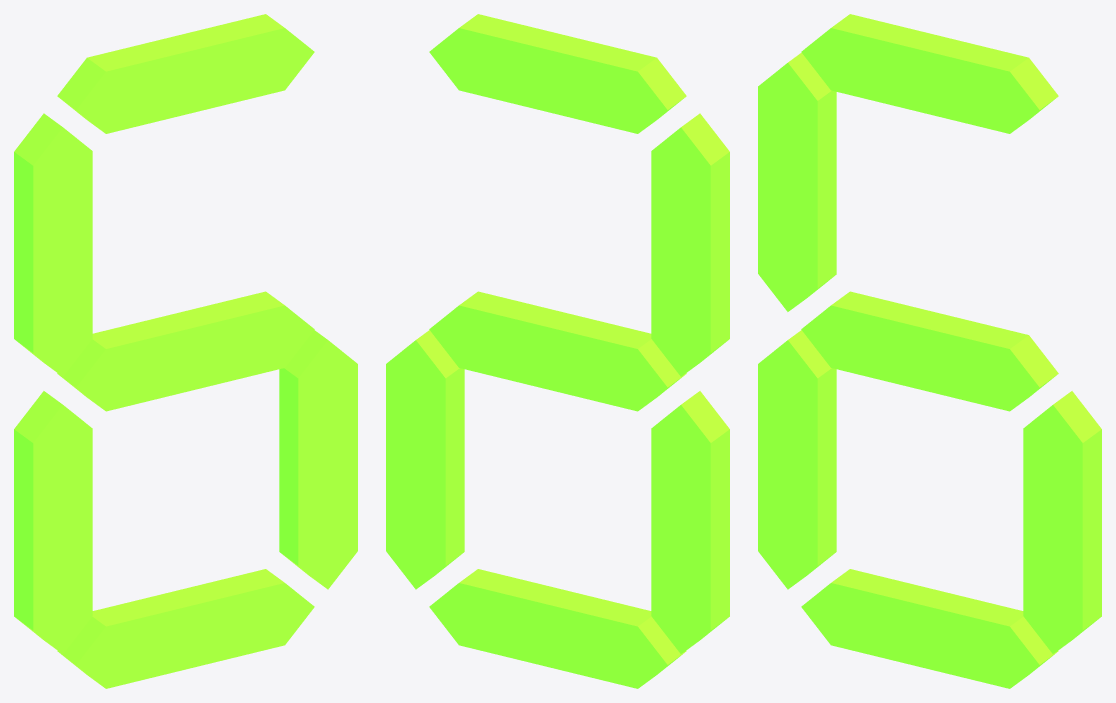
File: number6.glb
3 renders of one model, left to right at view 1: azimuth 30°, elevation 25°; view 2: azimuth 150°, elevation 25°; view 3: azimuth 330°, elevation 25°, orthographic.
Visible parts, largest first — view 1: Cube.007; view 2: Cube.007; view 3: Cube.007.
Part boxes in pixels (x1,y1,x2,y2): Cube.007: (14,14,357,688); Cube.007: (386,14,729,688); Cube.007: (758,14,1101,688).
Bounding box in the file's own units: 9.8 × 17.8 × 1.
